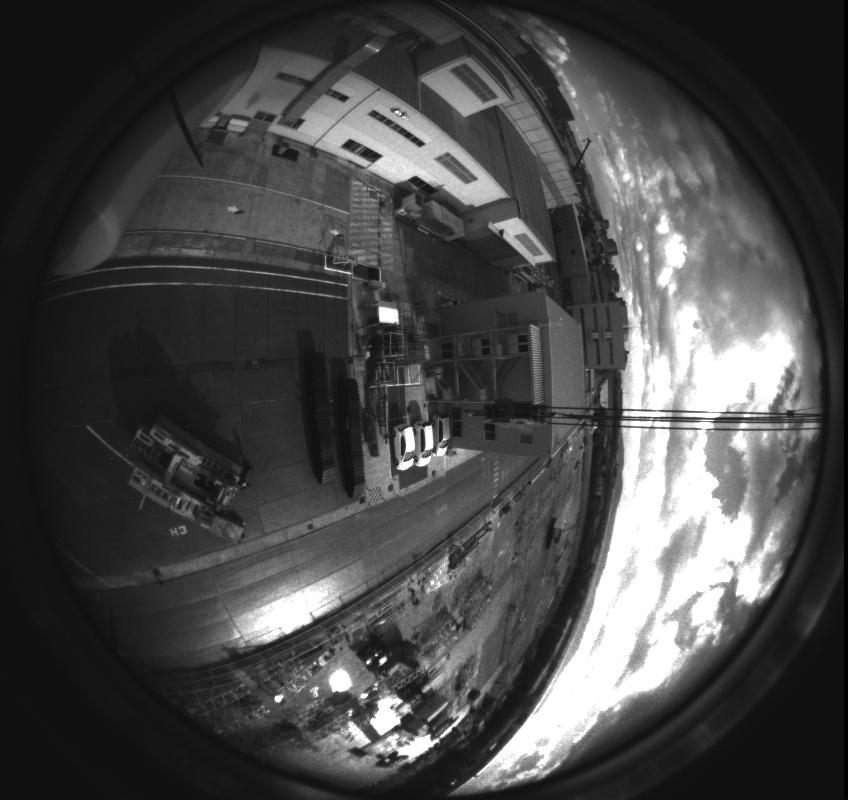rope: (431, 392, 844, 438)
